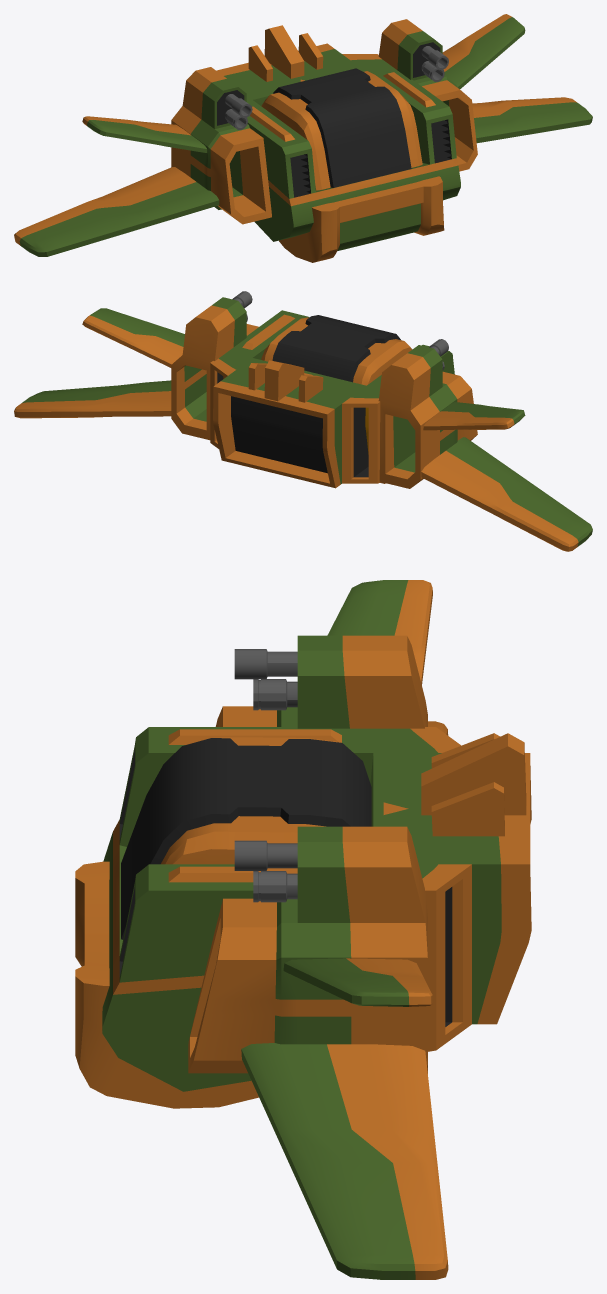
Rendered from Spaceship_FinnTheFrog.glb.
The picture shows the model from 3 angles, top to bottom: view 1: azimuth 30°, elevation 25°; view 2: azimuth 150°, elevation 25°; view 3: azimuth 270°, elevation 25°; orthographic projection. The views are drawn at different scales.
Parts seen in each view (by area): view 1: Spaceship_FinnTheFrog; view 2: Spaceship_FinnTheFrog; view 3: Spaceship_FinnTheFrog.
Boxes of the visible parts, x1=… form: Spaceship_FinnTheFrog: x1=14, y1=14, x2=592, y2=262; Spaceship_FinnTheFrog: x1=14, y1=291, x2=592, y2=551; Spaceship_FinnTheFrog: x1=75, y1=580, x2=531, y2=1279.
Size of the model in its own units: 11.62 by 3.06 by 4.11.
2 materials, 1 textured.
